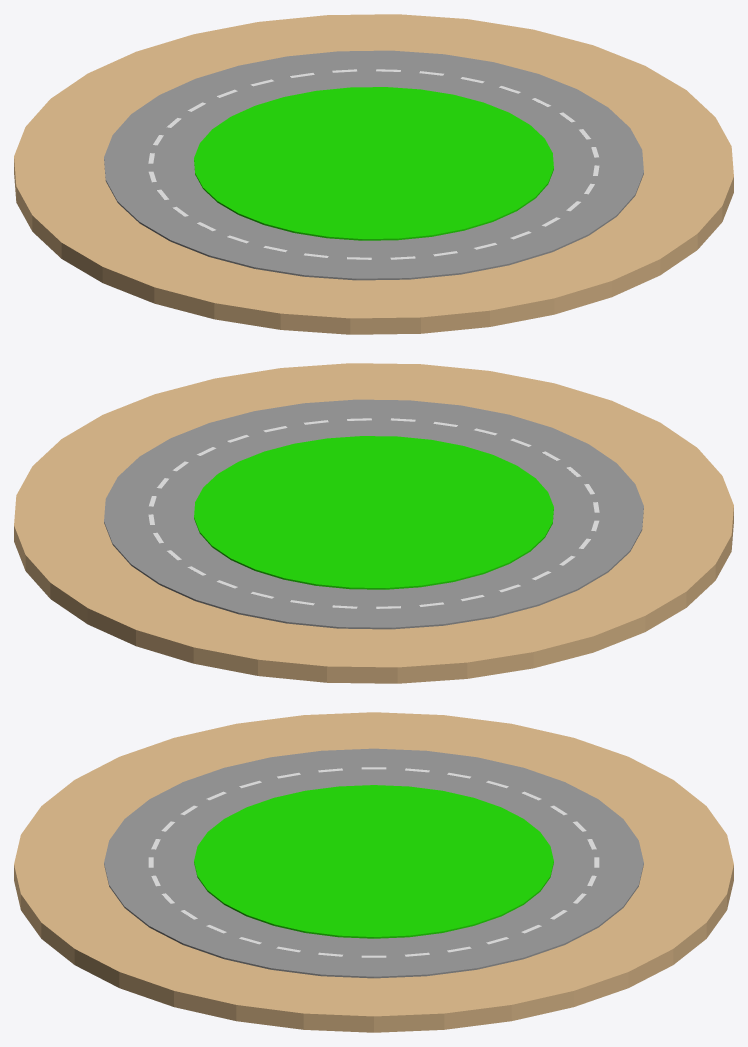
The model's file is lobbymap.glb.
3 views of the same model, one above another, from view 1: azimuth 30°, elevation 25°; view 2: azimuth 150°, elevation 25°; view 3: azimuth 270°, elevation 25° (orthographic).
Visible parts, largest first — view 1: Cylinder.002, Cylinder.001, Cylinder, innercircledottedlines; view 2: Cylinder.002, Cylinder.001, Cylinder, innercircledottedlines; view 3: Cylinder.002, Cylinder.001, Cylinder, innercircledottedlines.
Part boxes in pixels (left/top/right/bottom): Cylinder.002: left=14, top=14, right=733, bottom=334; Cylinder.001: left=104, top=50, right=643, bottom=280; Cylinder: left=194, top=87, right=553, bottom=240; innercircledottedlines: left=148, top=69, right=599, bottom=259; Cylinder.002: left=14, top=363, right=733, bottom=683; Cylinder.001: left=104, top=399, right=643, bottom=629; Cylinder: left=194, top=436, right=553, bottom=589; innercircledottedlines: left=148, top=418, right=599, bottom=608; Cylinder.002: left=14, top=712, right=733, bottom=1032; Cylinder.001: left=104, top=748, right=643, bottom=978; Cylinder: left=194, top=785, right=553, bottom=938; innercircledottedlines: left=148, top=767, right=599, bottom=957.
Size of the model in its own units: 80 by 2.4 by 80.
